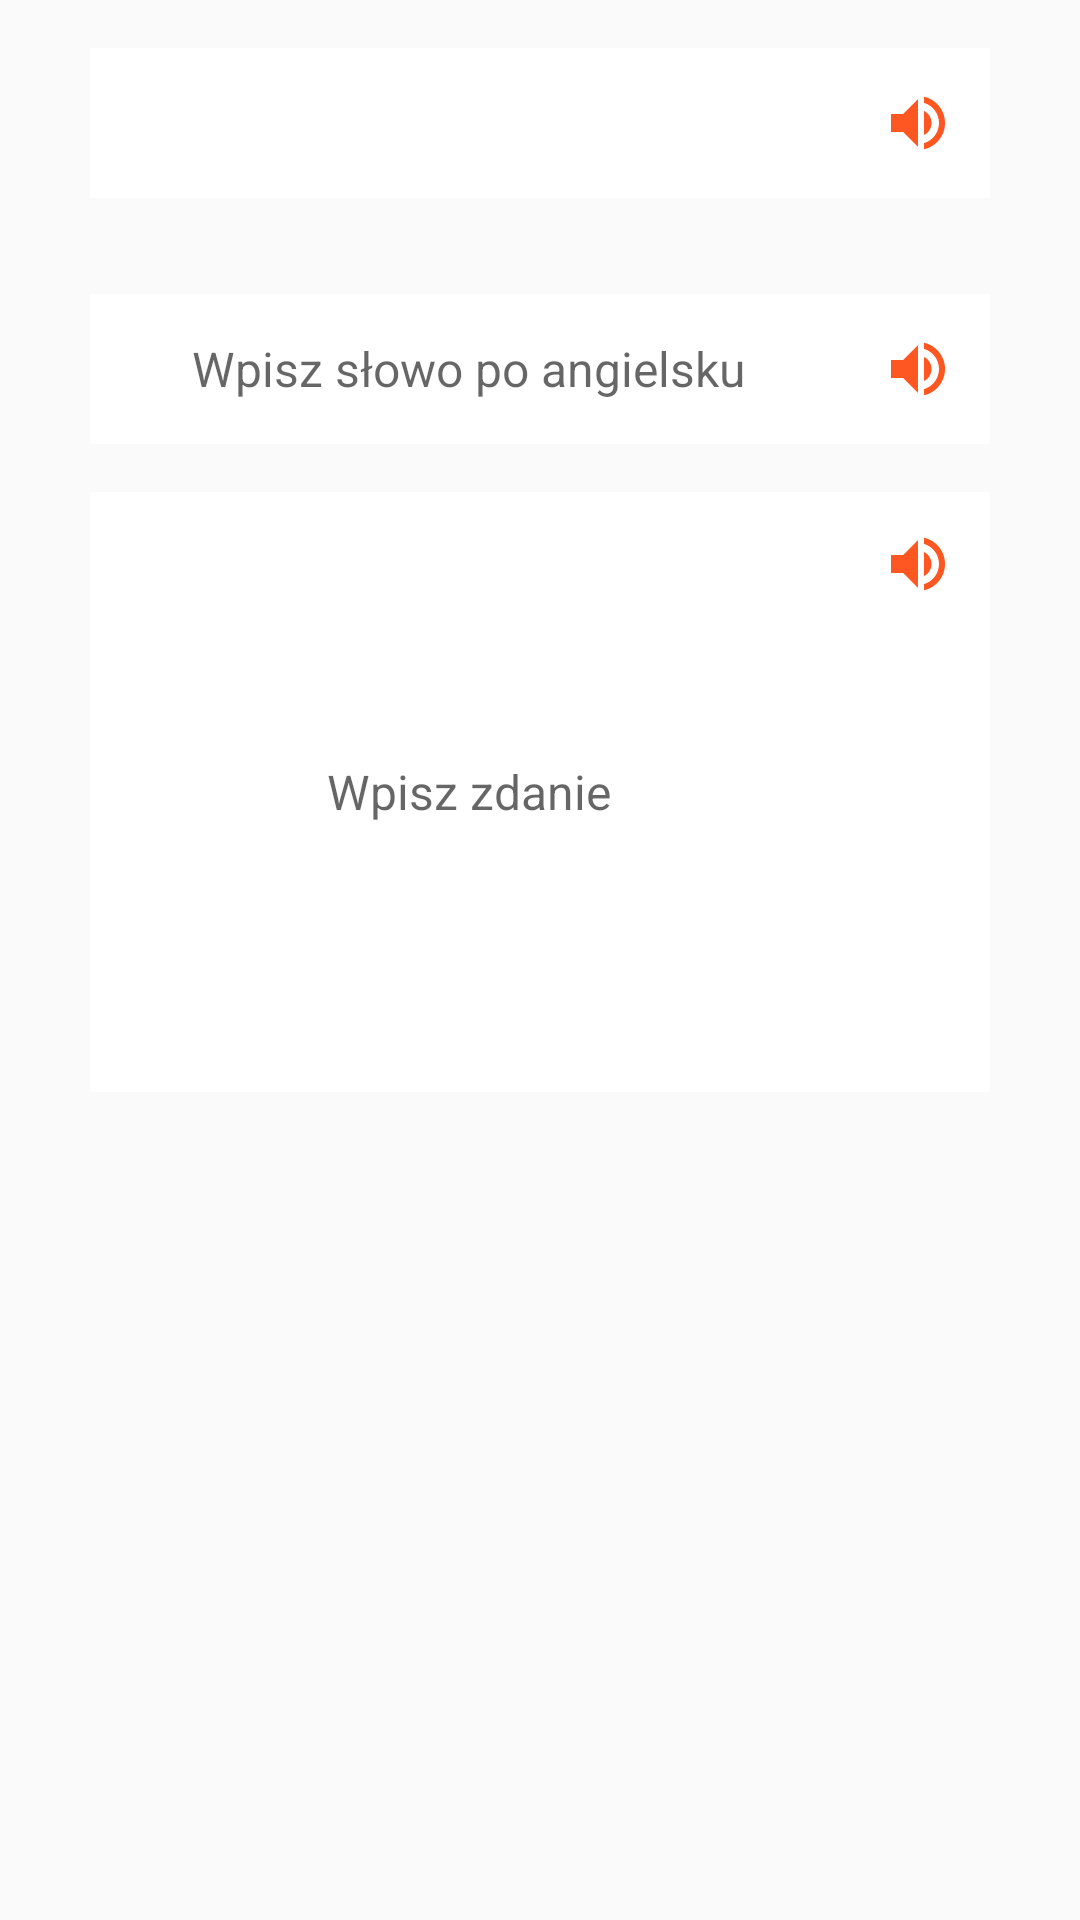

Icon bounding boxes for this 1080px×1920px phone screenshot, format (x1, y1, x2, y2):
volume up: (891, 96, 945, 150), (891, 342, 945, 396), (891, 537, 945, 591)
